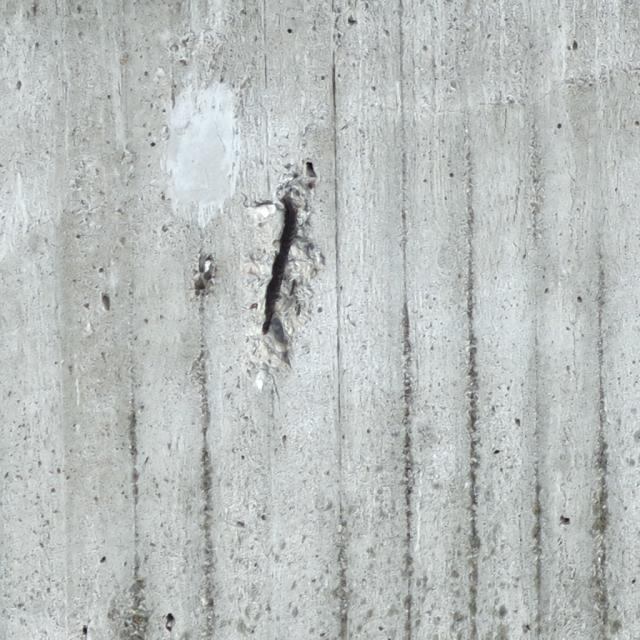D0w0: (262, 186, 324, 369)
